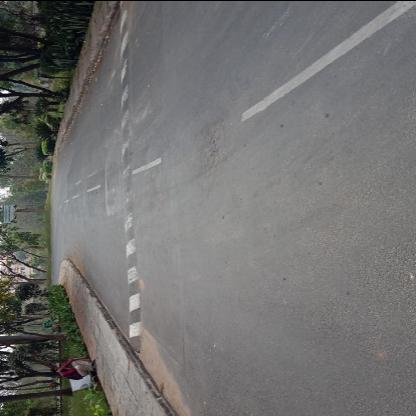speed-bumps: (103, 1, 144, 354)
